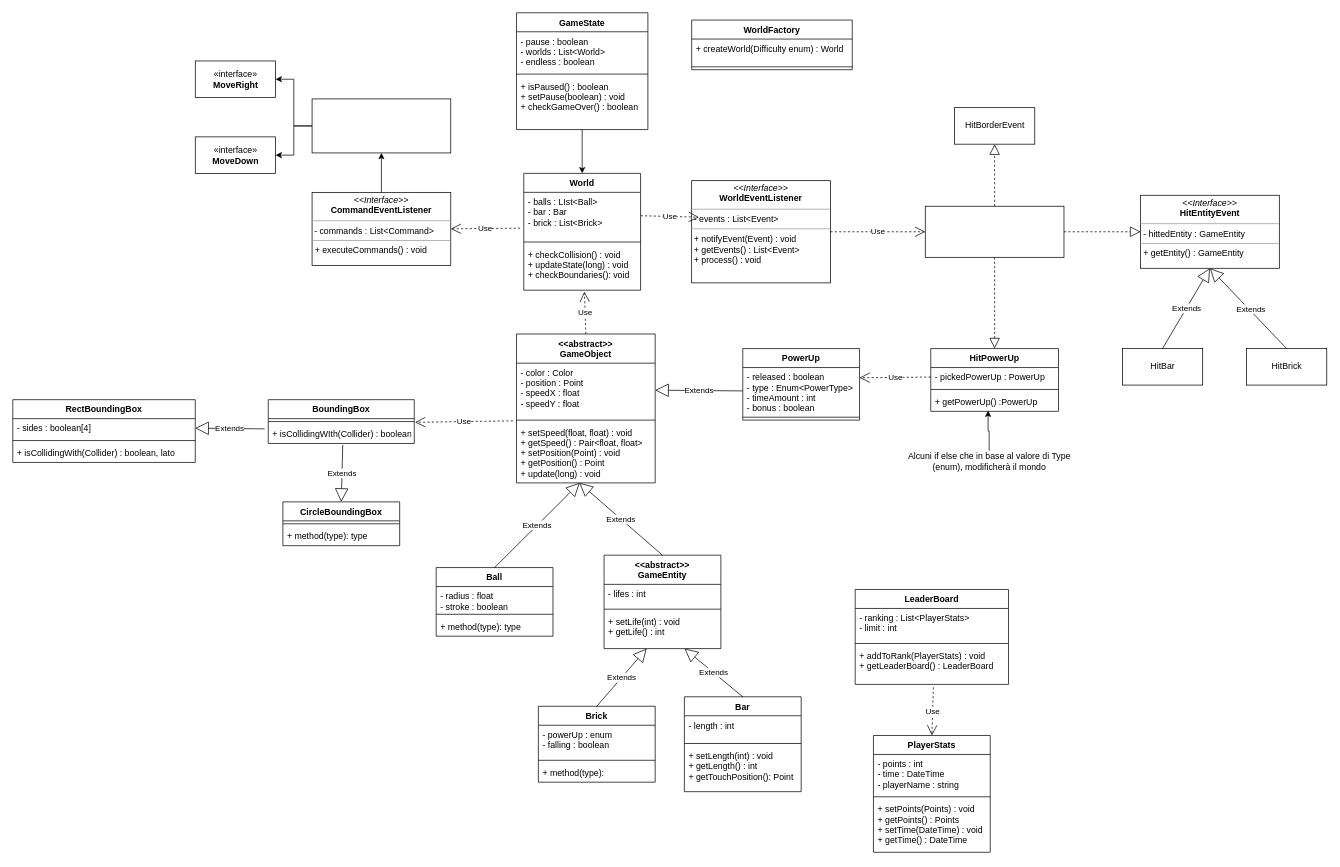
This 1340x867 diagram has some shape labels left out. The shapes that lost their labels are listed below. From the top down, each one's centre as x and y in pixels, then its label:
the point at 381,125: <<Interface>> Command + execute(World) : void
the point at 994,231: <<Interface>> Event + process(World) : void
